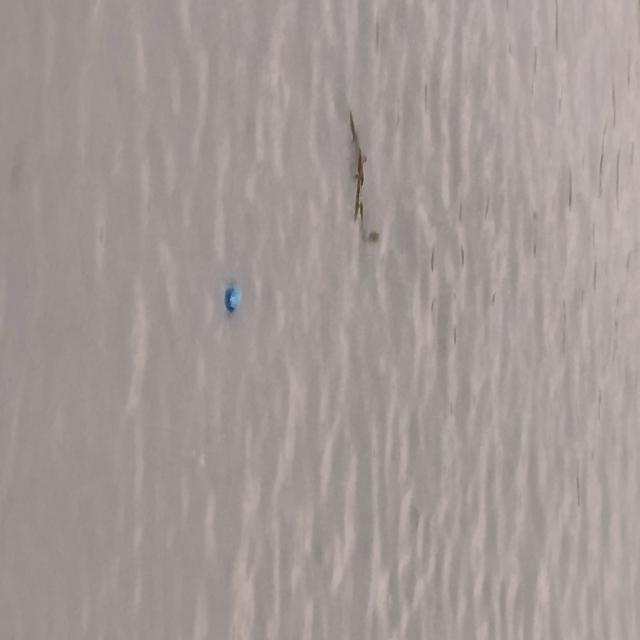Organic Debris: (335, 102, 384, 246)
Plastic: (198, 266, 255, 330)
